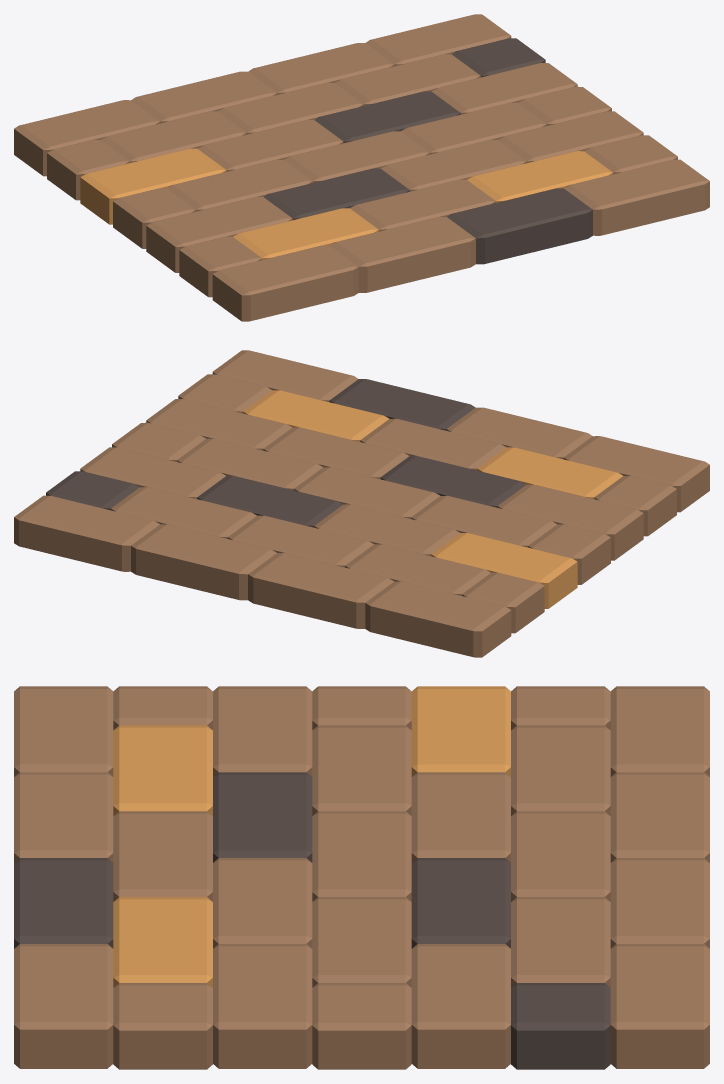
File: viganbricks.fbx
The picture shows the model from 3 angles, top to bottom: view 1: azimuth 30°, elevation 25°; view 2: azimuth 150°, elevation 25°; view 3: azimuth 270°, elevation 25°; orthographic projection. The views are drawn at different scales.
Parts seen in each view (by area): view 1: Cube; view 2: Cube; view 3: Cube.
Boxes of the visible parts, x1=… form: Cube: x1=14, y1=14, x2=709, y2=321; Cube: x1=14, y1=350, x2=709, y2=657; Cube: x1=14, y1=686, x2=709, y2=1069.
Bounding box in the file's own units: 802 × 48.41 × 685.
